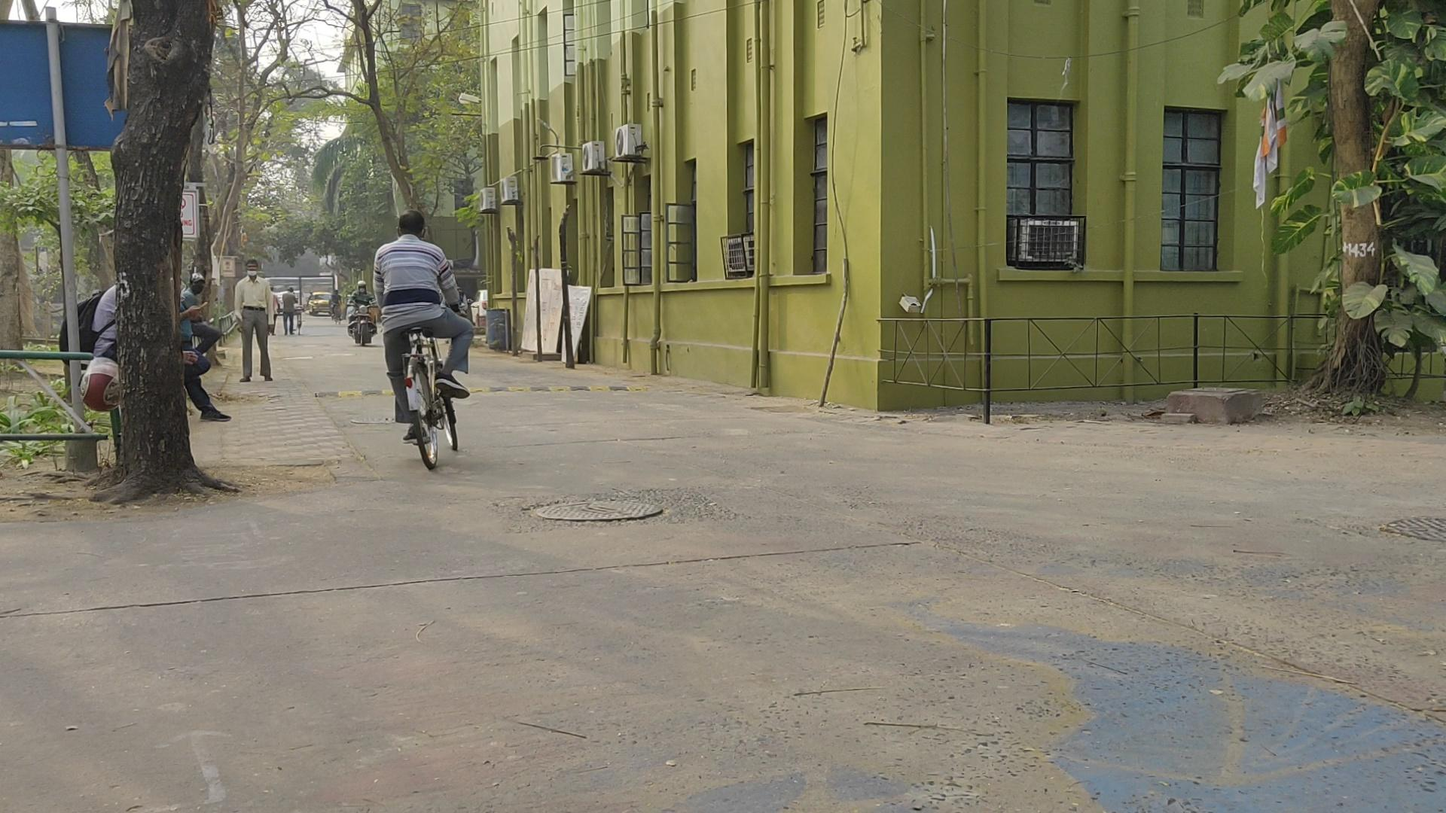bike: (371, 211, 472, 472), (346, 279, 377, 348), (279, 285, 304, 339), (328, 290, 343, 323)
car: (307, 291, 337, 318)
